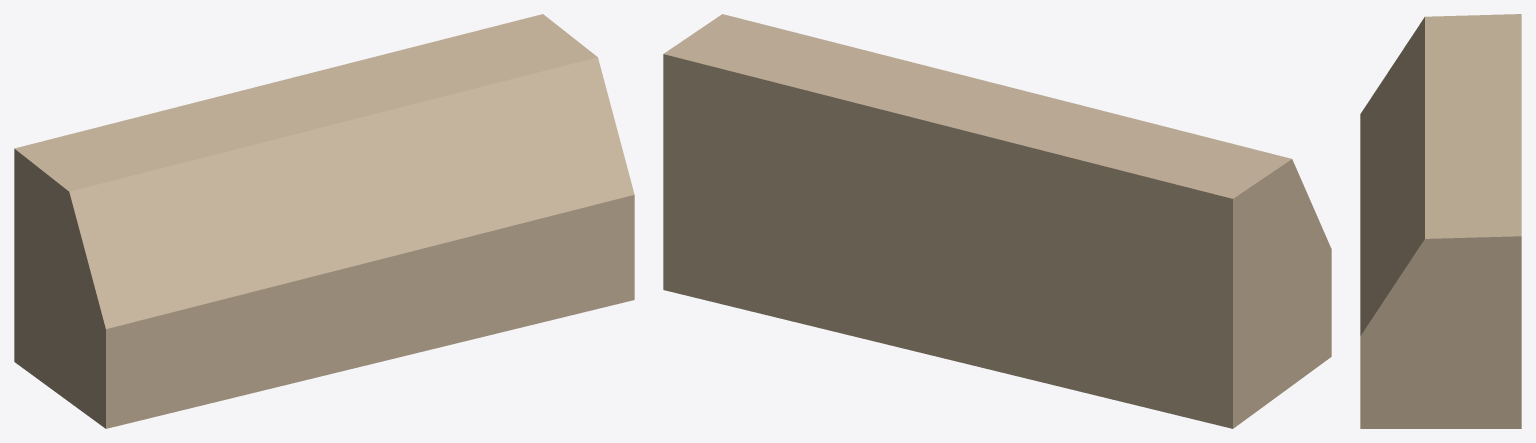
Rendered from SM_Ground_Curb_02.fbx.
3 views of the same model, side by side, from view 1: azimuth 30°, elevation 25°; view 2: azimuth 150°, elevation 25°; view 3: azimuth 270°, elevation 25° (orthographic). The views are drawn at different scales.
Visible parts, largest first — view 1: SM_Ground_Curb_02; view 2: SM_Ground_Curb_02; view 3: SM_Ground_Curb_02.
Part boxes in pixels (x1=…): SM_Ground_Curb_02: x1=14, y1=14, x2=634, y2=428; SM_Ground_Curb_02: x1=663, y1=14, x2=1331, y2=428; SM_Ground_Curb_02: x1=1360, y1=14, x2=1521, y2=428.
Size of the model in its own units: 0.5 by 0.1979 by 0.15.
Materials: 1 (1 with a texture image).
